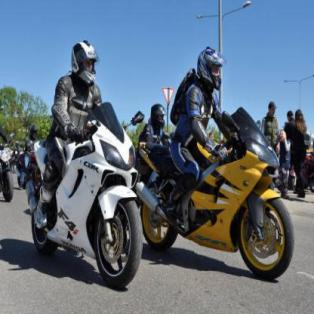Motocicleta: (14, 100, 150, 296), (141, 118, 296, 282)
